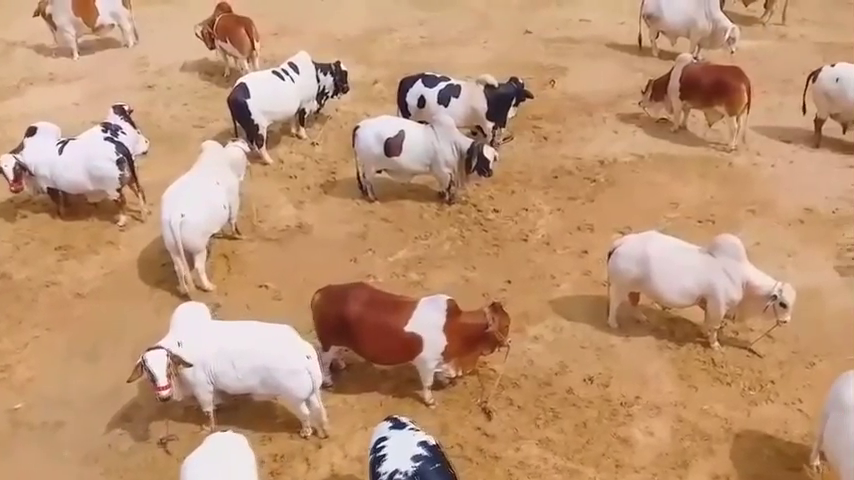bo: (589, 212, 804, 361), (302, 271, 506, 411), (137, 294, 332, 432), (1, 117, 150, 234), (153, 132, 250, 294), (222, 43, 353, 159), (342, 110, 502, 200), (634, 61, 757, 151), (395, 61, 523, 137), (355, 401, 466, 480), (27, 1, 156, 61), (187, 1, 269, 78), (638, 5, 741, 61), (794, 51, 854, 137), (807, 369, 854, 473), (174, 424, 257, 480), (87, 93, 150, 165)
